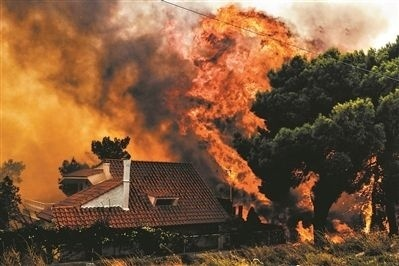fire: (79, 7, 380, 225)
